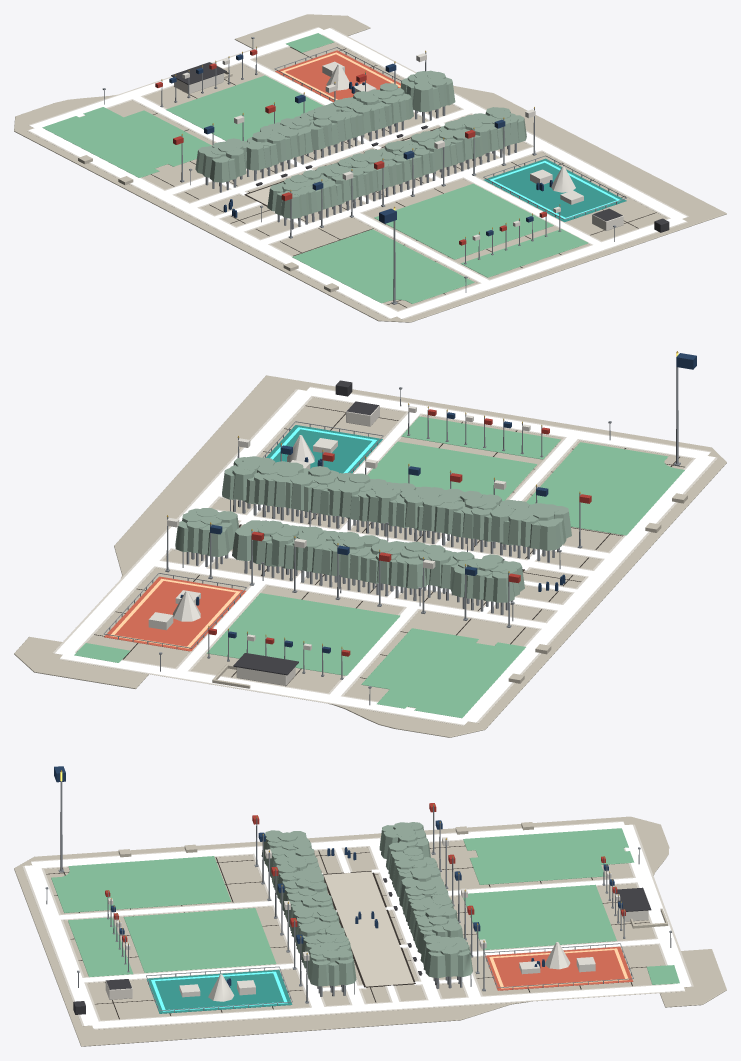
File: mid.glb
3 views of the same model, one above another, from view 1: azimuth 30°, elevation 25°; view 2: azimuth 150°, elevation 25°; view 3: azimuth 270°, elevation 25° (orthographic). The views are drawn at different scales.
Visible parts, largest first — view 1: grp_Toy_stone, grp_Toy_mint, trees, grp_Toy_cream_Glow, grp_Toy_cream, flagpoles, play_pad_playground_s, play_pad_playground_n, grp_Toy_white, grp_Toy_steel, grp_Toy_roofd, grp_Toy_ink (+2 smaller); view 2: grp_Toy_stone, grp_Toy_mint, trees, grp_Toy_cream_Glow, grp_Toy_cream, flagpoles, play_pad_playground_n, play_pad_playground_s, grp_Toy_white, grp_Toy_steel, grp_Toy_roofd, play_glow_playground_n (+3 smaller); view 3: grp_Toy_mint, grp_Toy_stone, grp_Toy_cream_Glow, trees, grp_Toy_cream, gravel_court, flagpoles, play_pad_playground_n, play_pad_playground_s, grp_Toy_white, grp_Toy_ink, grp_Toy_steel (+4 smaller).
Boxes of the visible parts, left/top/right/bottom form: grp_Toy_stone: left=14, top=14, right=726, bottom=322; grp_Toy_mint: left=42, top=33, right=588, bottom=303; trees: left=195, top=70, right=526, bottom=229; grp_Toy_cream_Glow: left=29, top=27, right=687, bottom=318; grp_Toy_cream: left=27, top=27, right=689, bottom=319; flagpoles: left=155, top=46, right=561, bottom=304; play_pad_playground_s: left=484, top=158, right=626, bottom=221; play_pad_playground_n: left=275, top=50, right=400, bottom=102; grp_Toy_white: left=322, top=61, right=583, bottom=204; grp_Toy_steel: left=102, top=37, right=626, bottom=292; grp_Toy_roofd: left=171, top=62, right=669, bottom=232; grp_Toy_ink: left=151, top=47, right=656, bottom=307; grp_Toy_stone: left=14, top=375, right=726, bottom=737; grp_Toy_mint: left=74, top=416, right=684, bottom=718; trees: left=175, top=456, right=571, bottom=614; grp_Toy_cream_Glow: left=55, top=387, right=715, bottom=724; grp_Toy_cream: left=52, top=386, right=717, bottom=725; flagpoles: left=165, top=351, right=696, bottom=679; play_pad_playground_n: left=104, top=576, right=245, bottom=651; play_pad_playground_s: left=266, top=425, right=382, bottom=473; grp_Toy_white: left=148, top=435, right=337, bottom=630; grp_Toy_steel: left=103, top=387, right=611, bottom=705; grp_Toy_roofd: left=233, top=380, right=504, bottom=675; play_glow_playground_n: left=110, top=578, right=240, bottom=648; grp_Toy_mint: left=51, top=828, right=679, bottom=984; grp_Toy_stone: left=14, top=816, right=726, bottom=1046; grp_Toy_cream_Glow: left=24, top=822, right=691, bottom=1028; trees: left=261, top=822, right=472, bottom=996; grp_Toy_cream: left=22, top=821, right=693, bottom=1029; gravel_court: left=323, top=871, right=413, bottom=986; flagpoles: left=54, top=766, right=625, bottom=1003; play_pad_playground_n: left=485, top=946, right=633, bottom=990; play_pad_playground_s: left=146, top=969, right=292, bottom=1013; grp_Toy_white: left=179, top=942, right=595, bottom=1001; grp_Toy_ink: left=46, top=845, right=649, bottom=1019; grp_Toy_steel: left=45, top=847, right=671, bottom=1012.
Size of the model in its own units: 147 by 30.48 by 192.
